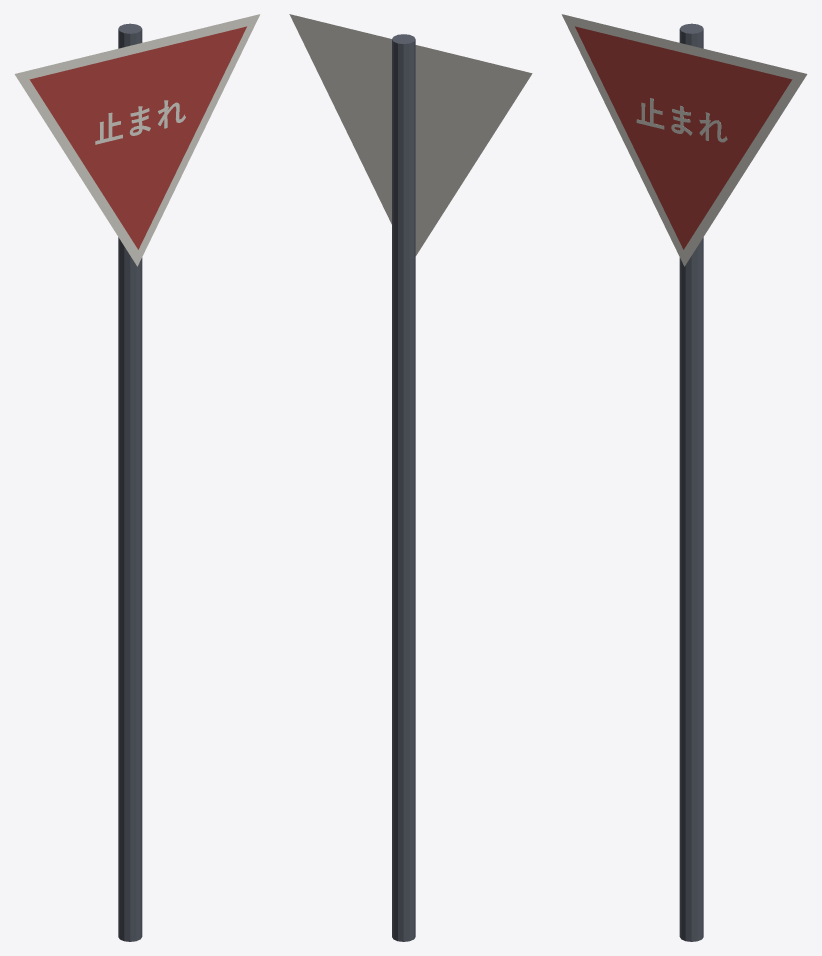
The model's file is SM_Road_StopSign.fbx.
3 renders of one model, left to right at view 1: azimuth 30°, elevation 25°; view 2: azimuth 150°, elevation 25°; view 3: azimuth 330°, elevation 25°, orthographic.
Parts seen in each view (by area): view 1: SM_Road_StopSign; view 2: SM_Road_StopSign; view 3: SM_Road_StopSign.
Boxes of the visible parts, left/top/right/bottom form: SM_Road_StopSign: left=14, top=14, right=260, bottom=941; SM_Road_StopSign: left=289, top=14, right=532, bottom=941; SM_Road_StopSign: left=561, top=14, right=807, bottom=941.
Size of the model in its own units: 0.78 by 0.0884 by 2.75.
